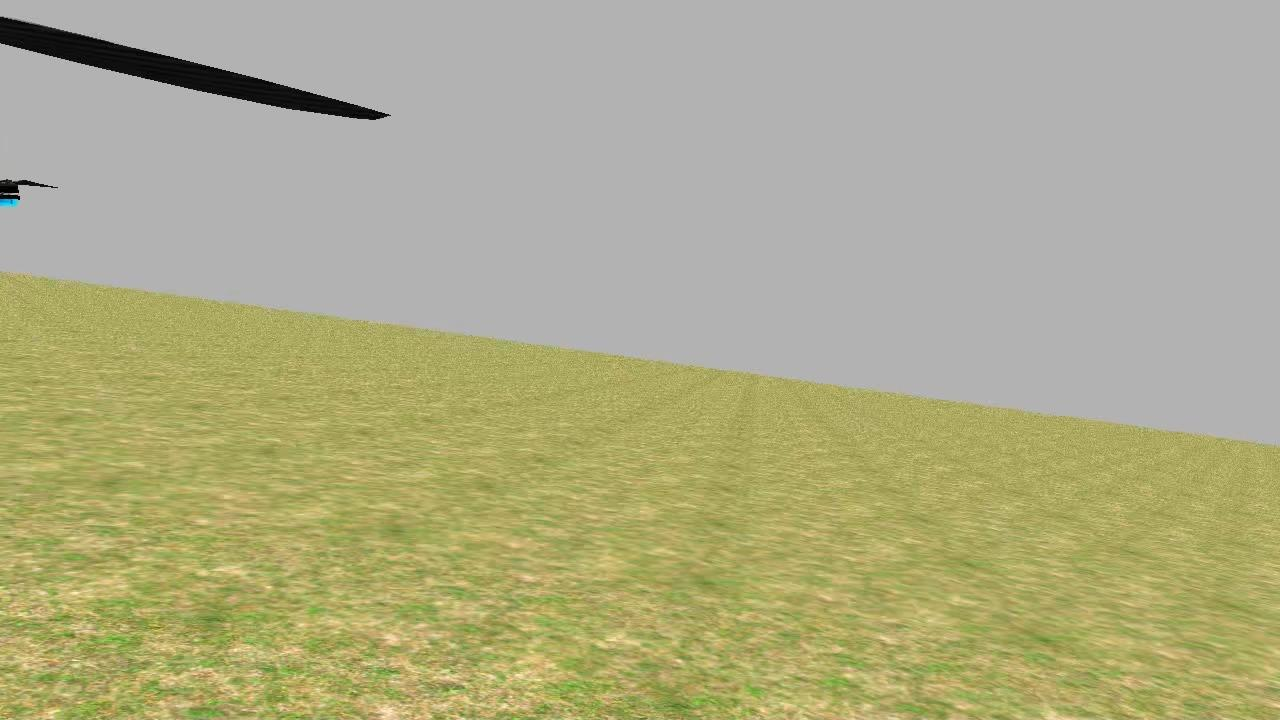UAV: (0, 364, 228, 514)
